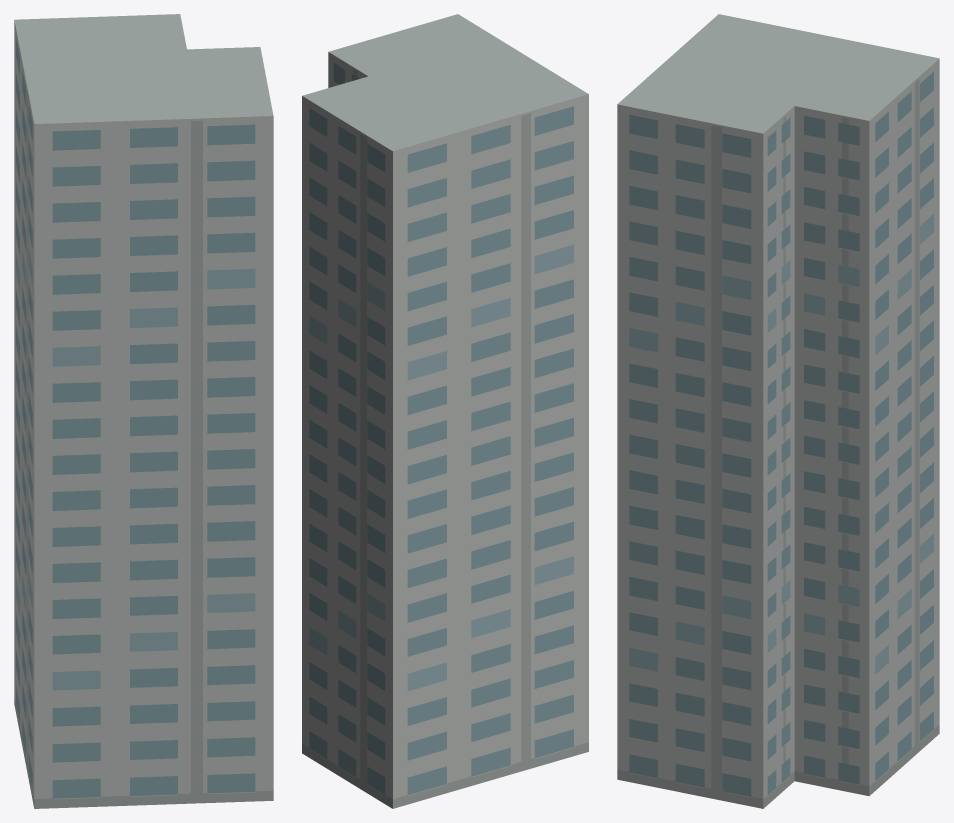
Rendered from residential-8718e4a3-e974-426d-9994-6c51a1b774ae.glb.
3 renders of one model, left to right at view 1: azimuth 30°, elevation 25°; view 2: azimuth 150°, elevation 25°; view 3: azimuth 270°, elevation 25°, orthographic. The views are drawn at different scales.
Visible parts, largest first — view 1: residential-8718e4a3-e974-426d-9994-6c51a1b774ae.tmp; view 2: residential-8718e4a3-e974-426d-9994-6c51a1b774ae.tmp; view 3: residential-8718e4a3-e974-426d-9994-6c51a1b774ae.tmp.
Boxes of the visible parts, box(x1,y1,x2,y2) form: residential-8718e4a3-e974-426d-9994-6c51a1b774ae.tmp: box(14, 14, 273, 808); residential-8718e4a3-e974-426d-9994-6c51a1b774ae.tmp: box(302, 14, 588, 808); residential-8718e4a3-e974-426d-9994-6c51a1b774ae.tmp: box(617, 14, 939, 808).
Size of the model in its own units: 28.52 by 75 by 32.47.
